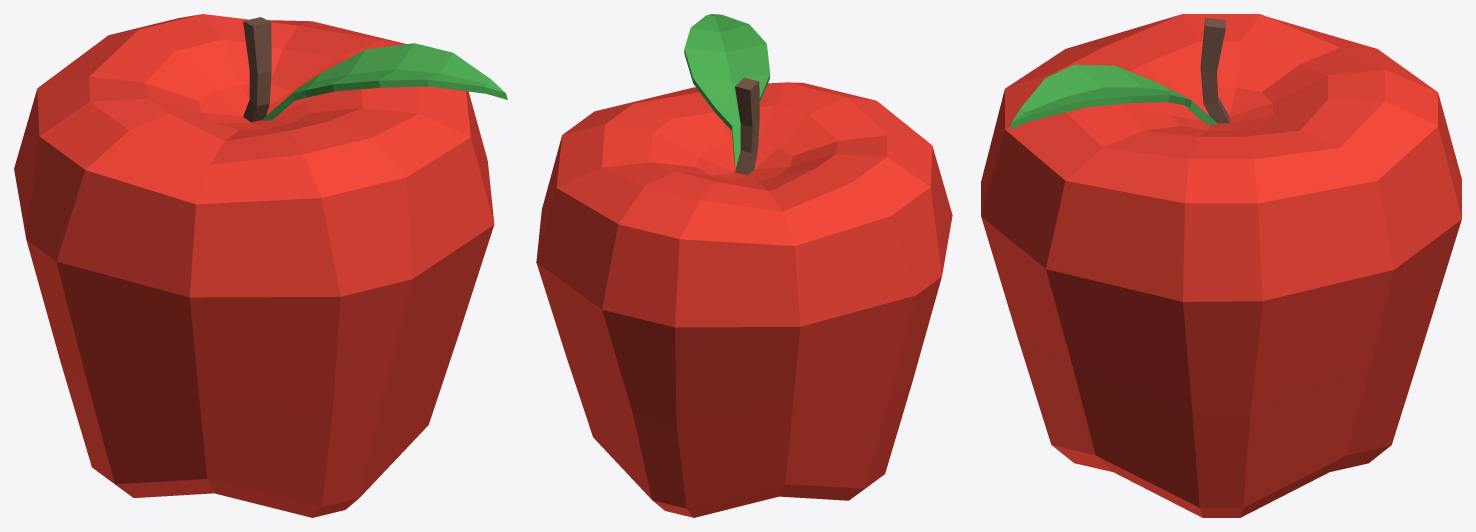
File: apple.glb
3 views of the same model, side by side, from view 1: azimuth 30°, elevation 25°; view 2: azimuth 150°, elevation 25°; view 3: azimuth 270°, elevation 25° (orthographic). The views are drawn at different scales.
Parts seen in each view (by area): view 1: Cube.026_Cube; view 2: Cube.026_Cube; view 3: Cube.026_Cube.
Part boxes in pixels (x1,y1,x2,y2): Cube.026_Cube: (14,14,507,517); Cube.026_Cube: (536,14,952,517); Cube.026_Cube: (981,14,1461,517).
Bounding box in the file's own units: 9.96 × 9.84 × 9.88.
